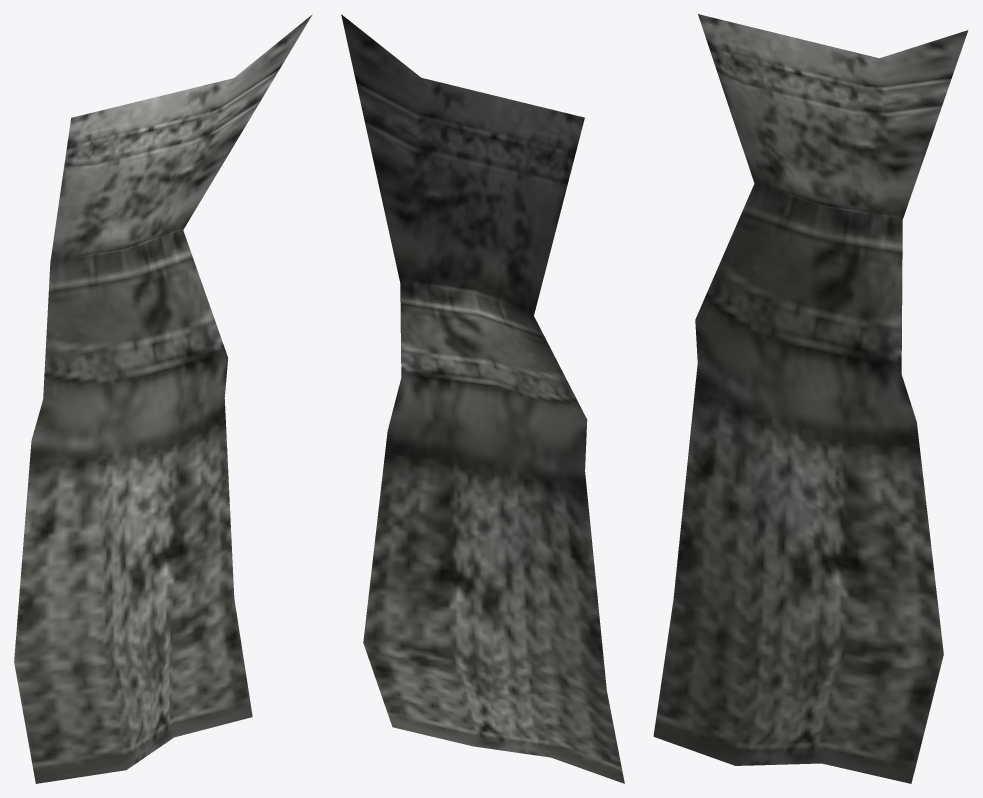
3 views of the same model, side by side, from view 1: azimuth 30°, elevation 25°; view 2: azimuth 150°, elevation 25°; view 3: azimuth 330°, elevation 25° (orthographic). The views are drawn at different scales.
Parts seen in each view (by area): view 1: np1711; view 2: np1711; view 3: np1711.
Boxes of the visible parts, bbox=[...] form: np1711: bbox=[14, 14, 312, 783]; np1711: bbox=[341, 14, 624, 783]; np1711: bbox=[653, 14, 968, 783].
Size of the model in its own units: 68.93 by 164 by 19.73.
